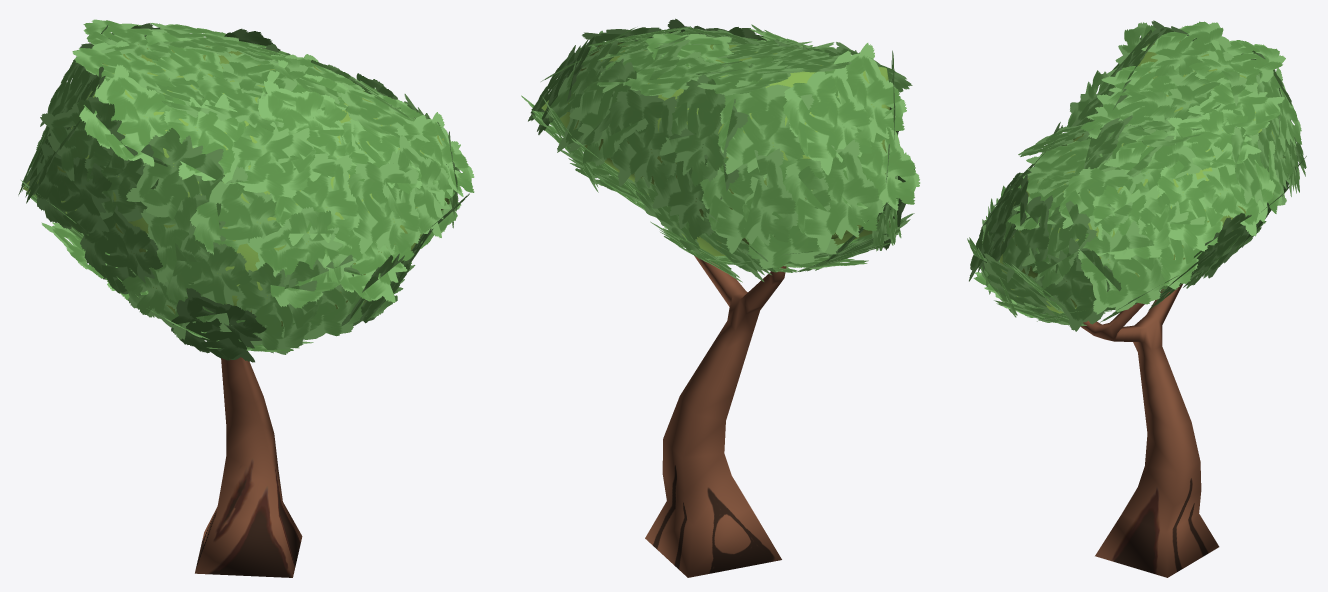
The model's file is tree.dae.
3 renders of one model, left to right at view 1: azimuth 30°, elevation 25°; view 2: azimuth 150°, elevation 25°; view 3: azimuth 270°, elevation 25°, orthographic. The views are drawn at different scales.
Visible parts, largest first — view 1: Plane.073, Plane.001, Icosphere; view 2: Plane.073, Plane.001, Icosphere; view 3: Plane.073, Plane.001, Icosphere.
Part boxes in pixels (x1,y1,x2,y2): Plane.073: (18, 19, 474, 362); Plane.001: (195, 357, 302, 577); Icosphere: (23, 44, 449, 326); Plane.073: (521, 18, 920, 282); Plane.001: (645, 256, 786, 577); Icosphere: (541, 43, 893, 256); Plane.073: (967, 20, 1306, 331); Plane.001: (1080, 284, 1219, 577); Icosphere: (999, 34, 1283, 313).
Size of the model in its own units: 4.87 by 3.93 by 5.8.
Materials: 3 (3 with a texture image).
